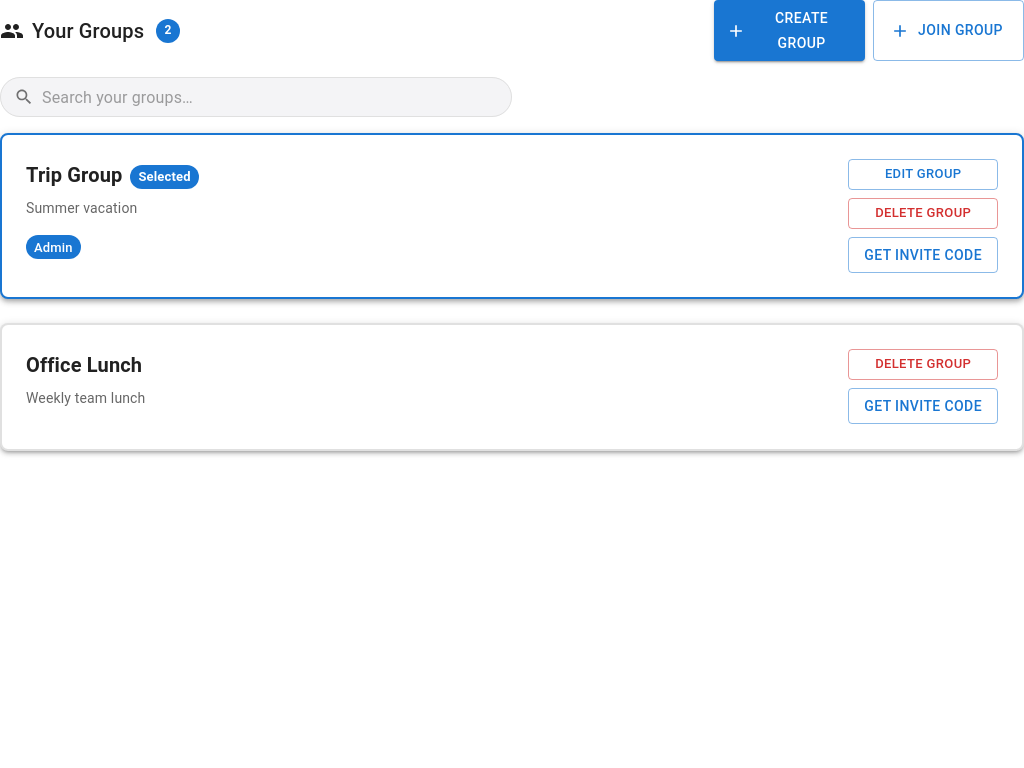
Test: GroupManagement - Core Functions › Group Creation › should require group name for creation
Click the button "Create Group".
click(790, 30)  # box [714,0,865,61]
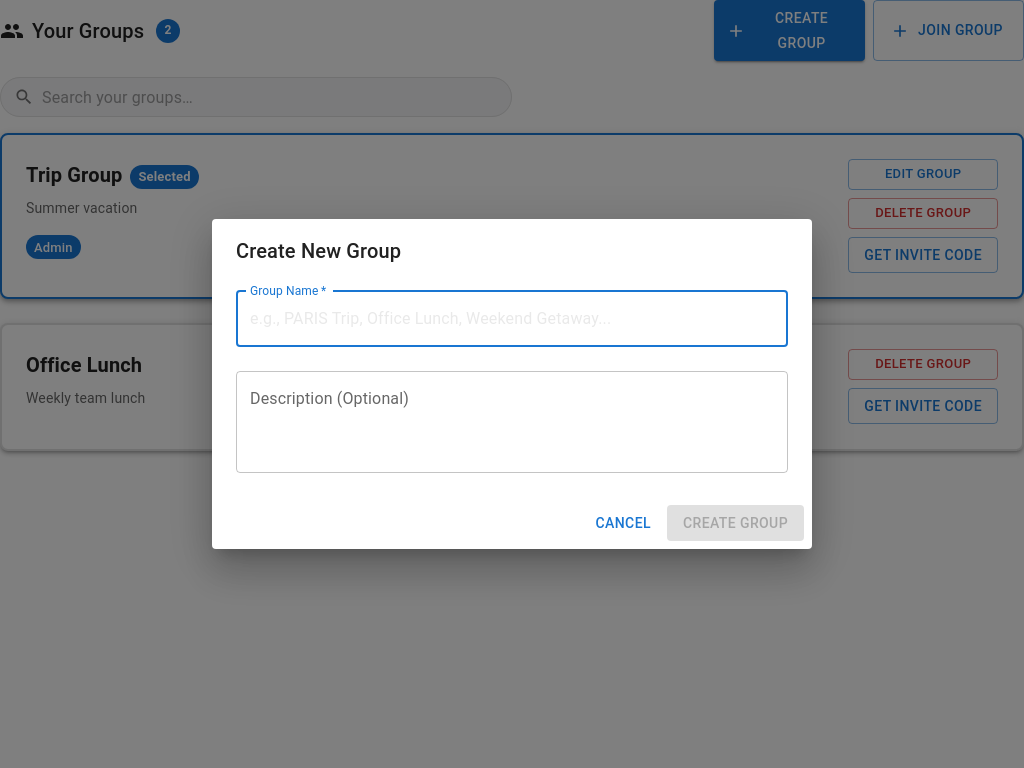
Now the button "Create Group" is disabled, box [667,505,804,541]
